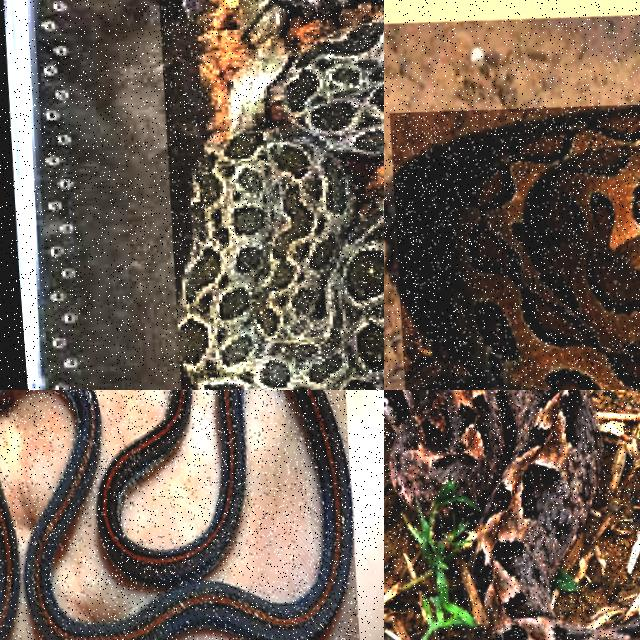Calliophis intestinalis: (25, 390, 352, 639)
Calloselasma rhodostoma: (384, 390, 639, 639)
Daboia siamensis: (177, 15, 383, 389), (450, 111, 639, 389)
